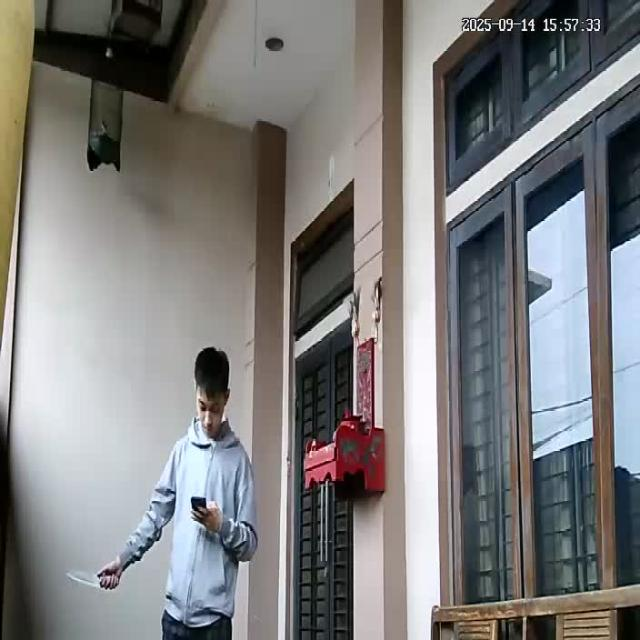senjata_tajam: (64, 566, 101, 590)
